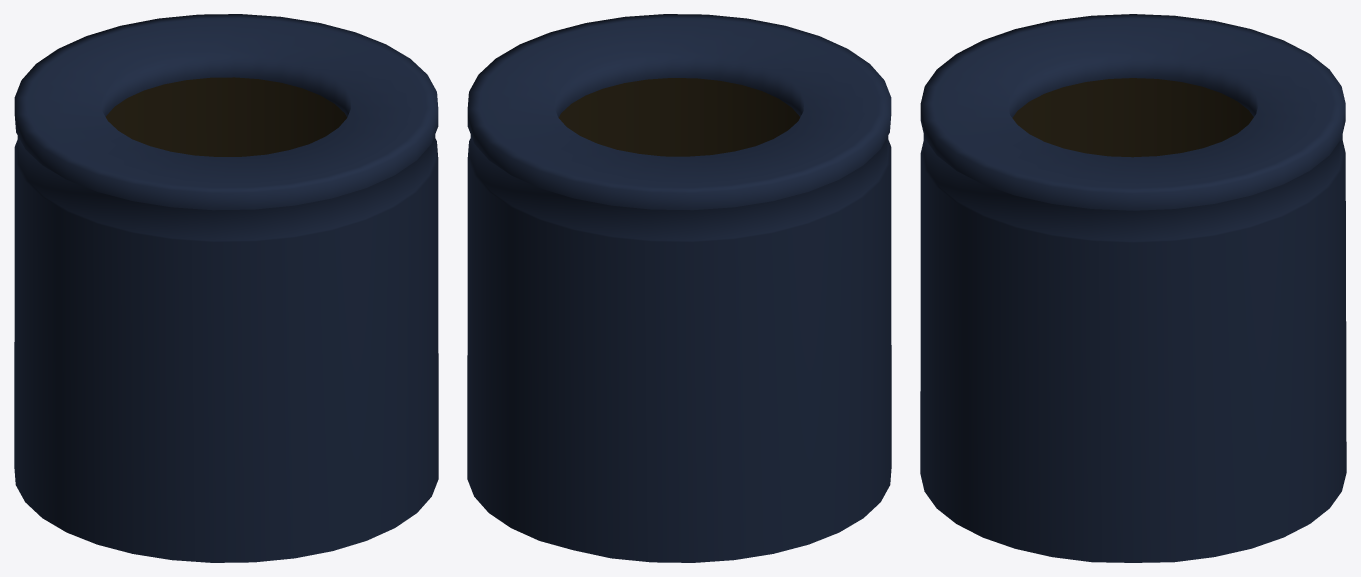
The model's file is trashcan_tier5.fbx.
3 renders of one model, left to right at view 1: azimuth 30°, elevation 25°; view 2: azimuth 150°, elevation 25°; view 3: azimuth 270°, elevation 25°, orthographic.
Visible parts, largest first — view 1: Cylinder; view 2: Cylinder; view 3: Cylinder.
Part boxes in pixels (box(x1,y1,x2,y2)): Cylinder: box(14, 14, 438, 562); Cylinder: box(467, 14, 891, 562); Cylinder: box(920, 14, 1346, 562).
Size of the model in its own units: 0.6681 by 0.6407 by 0.6681.
